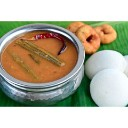idly: (91, 68, 128, 105), (86, 51, 126, 75)
